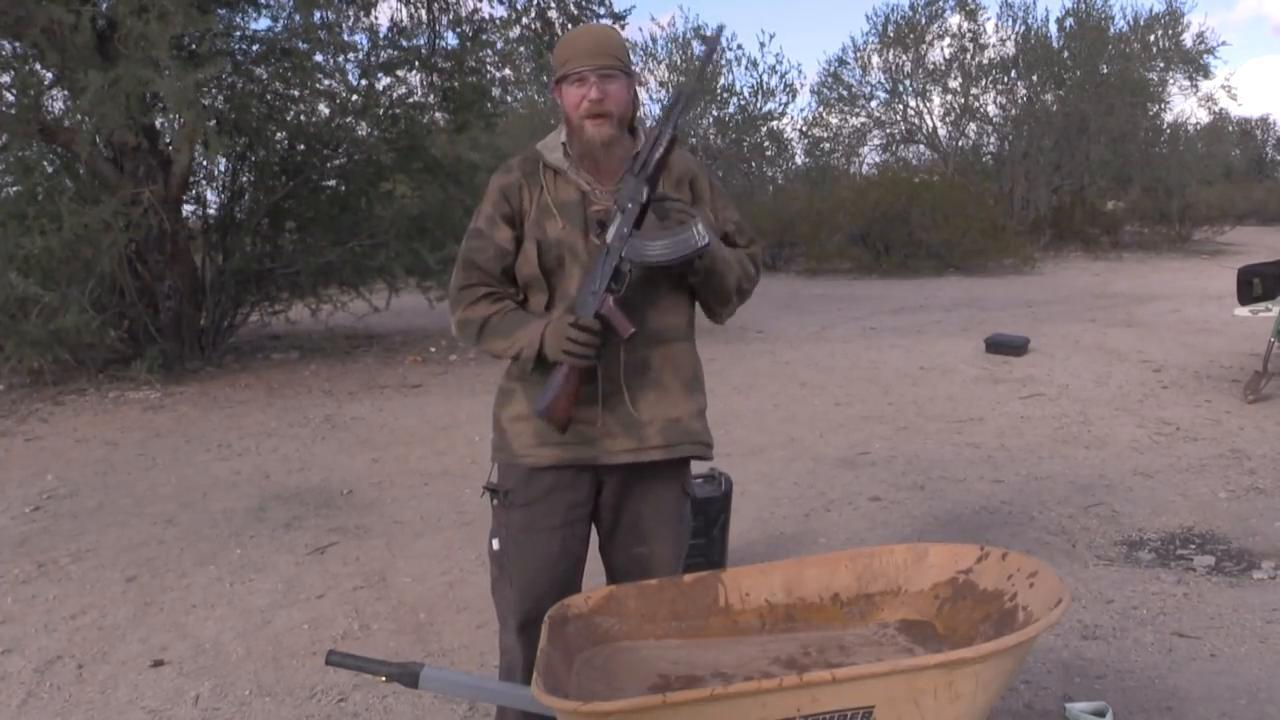AK47 Rifle: (531, 19, 728, 435)
